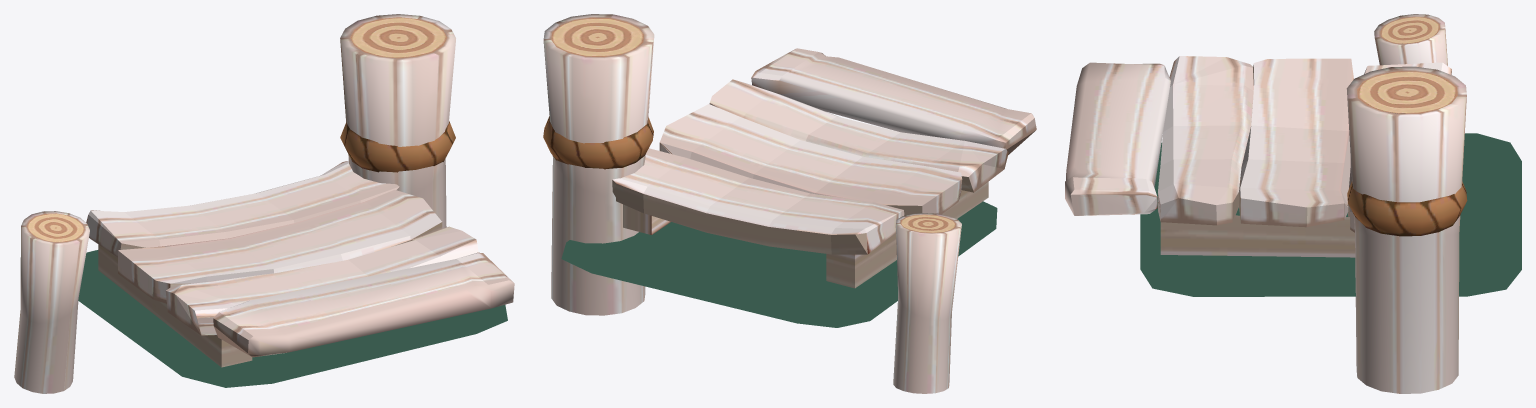
The model's file is Pier1.fbx.
3 renders of one model, left to right at view 1: azimuth 30°, elevation 25°; view 2: azimuth 150°, elevation 25°; view 3: azimuth 270°, elevation 25°, orthographic. The views are drawn at different scales.
Parts seen in each view (by area): view 1: Object009 (13), PierBeam (×2), Object011 (6), ShadowSquareWater (6), Rope; view 2: Object009 (13), PierBeam (×2), ShadowSquareWater (6), Object011 (6), Rope; view 3: Object009 (13), PierBeam (×2), ShadowSquareWater (6), Object011 (6), Rope.
Boxes of the visible parts, left/top/right/bottom form: Object009 (13): left=86, top=160, right=478, bottom=367; PierBeam (×2): left=14, top=14, right=455, bottom=393; Object011 (6): left=213, top=252, right=514, bottom=357; ShadowSquareWater (6): left=78, top=250, right=507, bottom=387; Rope: left=340, top=121, right=455, bottom=172; Object009 (13): left=612, top=79, right=1008, bottom=288; PierBeam (×2): left=543, top=14, right=961, bottom=393; ShadowSquareWater (6): left=561, top=201, right=997, bottom=327; Object011 (6): left=751, top=48, right=1036, bottom=154; Rope: left=543, top=116, right=653, bottom=169; Object009 (13): left=1158, top=56, right=1451, bottom=257; PierBeam (×2): left=1346, top=14, right=1466, bottom=393; ShadowSquareWater (6): left=1140, top=133, right=1521, bottom=296; Object011 (6): left=1065, top=62, right=1170, bottom=215; Rope: left=1347, top=181, right=1467, bottom=236.
Bounding box in the file's own units: 2.88 × 1.76 × 2.57.
